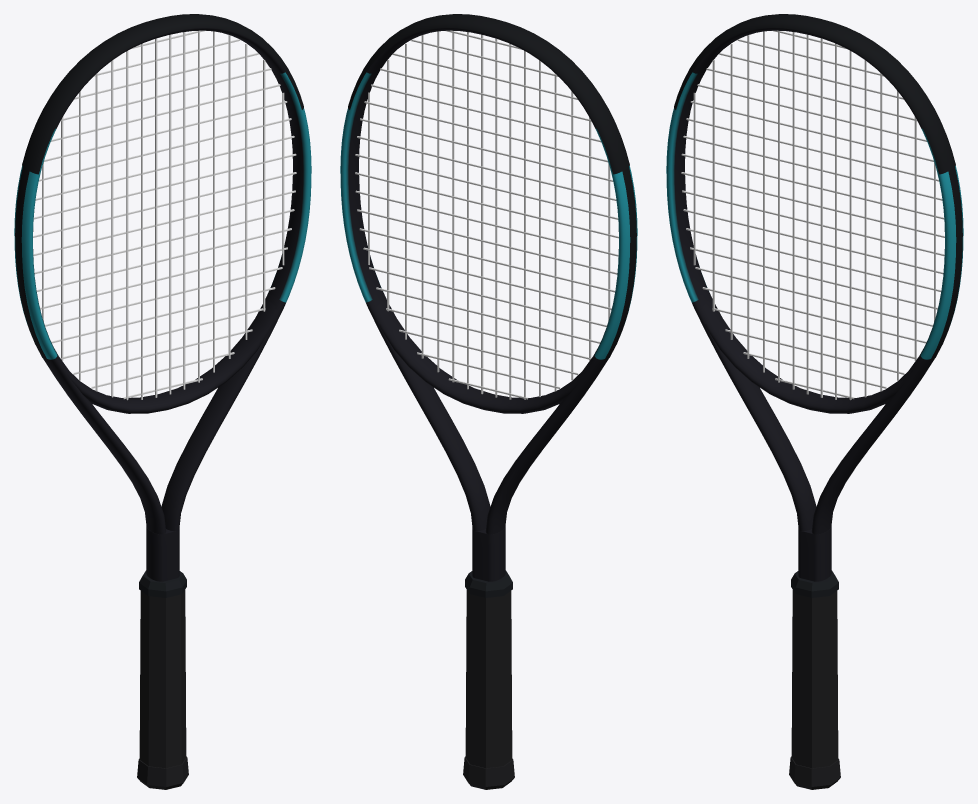
Rendered from head-gravity-team-2025.glb.
3 renders of one model, left to right at view 1: azimuth 30°, elevation 25°; view 2: azimuth 150°, elevation 25°; view 3: azimuth 330°, elevation 25°, orthographic.
Parts seen in each view (by area): view 1: frame, strings_mains, strings_crosses, grip, bumper, grommets, butt_cap, collar; view 2: frame, strings_mains, strings_crosses, grip, bumper, grommets, butt_cap, collar; view 3: frame, strings_mains, strings_crosses, grip, bumper, grommets, butt_cap, collar.
Boxes of the visible parts, x1,y1,x2,y2 form: frame: [14, 28, 311, 581]; strings_mains: [42, 30, 284, 400]; strings_crosses: [33, 30, 296, 399]; grip: [139, 590, 186, 768]; bumper: [22, 14, 303, 174]; grommets: [15, 167, 48, 361]; butt_cap: [137, 756, 188, 789]; collar: [139, 570, 186, 597]; frame: [340, 28, 637, 581]; strings_mains: [368, 30, 610, 399]; strings_crosses: [355, 30, 618, 399]; grip: [465, 590, 512, 768]; bumper: [348, 14, 629, 174]; grommets: [603, 167, 636, 361]; butt_cap: [463, 756, 514, 789]; collar: [465, 570, 512, 597]; frame: [666, 28, 963, 581]; strings_mains: [693, 30, 935, 400]; strings_crosses: [681, 30, 944, 399]; grip: [791, 590, 838, 768]; bumper: [674, 14, 955, 174]; grommets: [929, 167, 962, 361]; butt_cap: [789, 756, 840, 789]; collar: [791, 570, 838, 597].
Bounding box in the file's own units: 0.2745 × 0.6861 × 0.0396.
